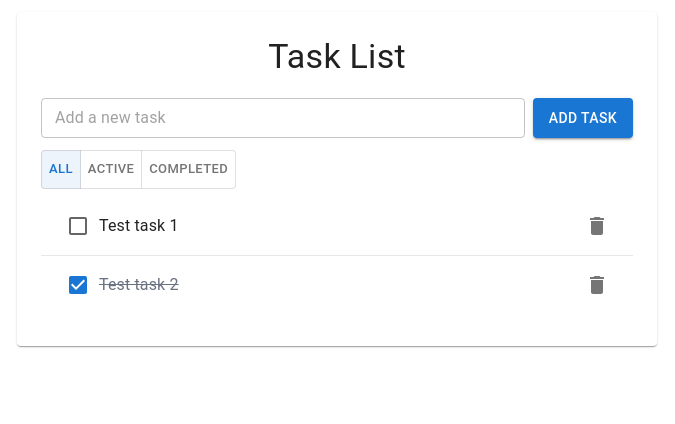
TaskList component › adds a new task
The width and height of the screenshot is (675, 424).
Expected: the text "Test task 1" is shown, [99,216,179,235]
Step 1. Type "New Task" into the field with placeholder "Add a new task" → (283,118), box [41,98,525,138]
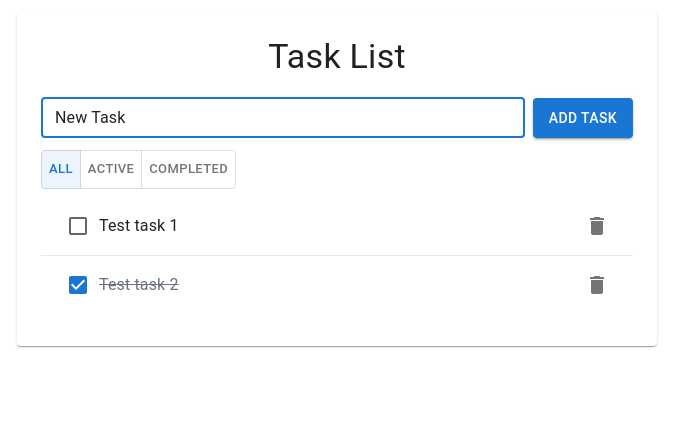
Step 2. Click the button "Add Task" → (583,118), box [533,98,633,138]
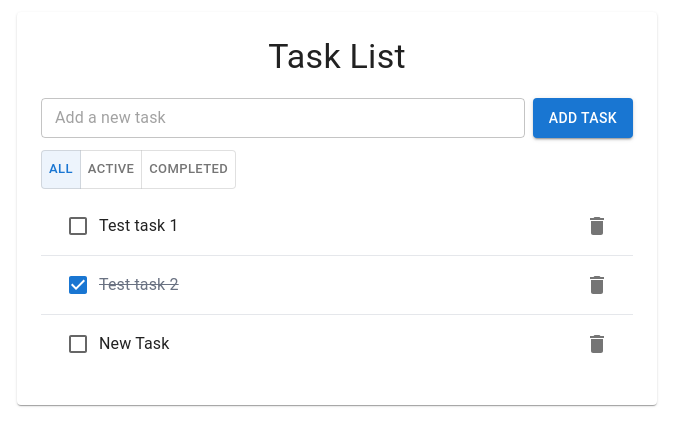
Expected: the text "New Task" is shown, [99,334,170,353]
